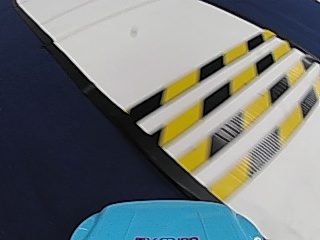bump: (148, 37, 311, 156)
